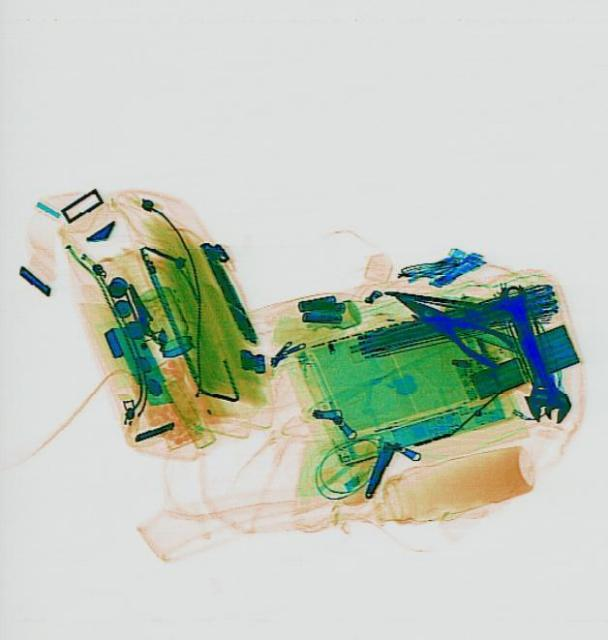Pliers: (383, 276, 514, 369)
Wrench: (489, 276, 573, 428)
